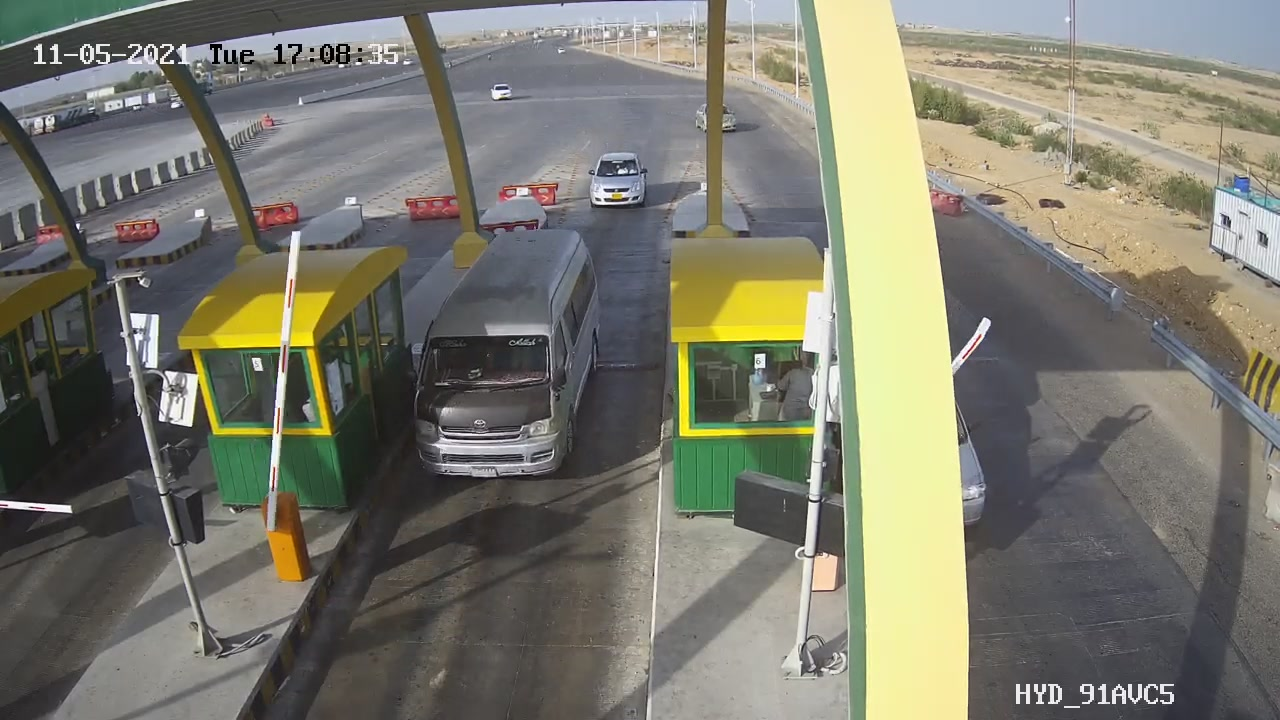F2: (379, 213, 633, 514)
